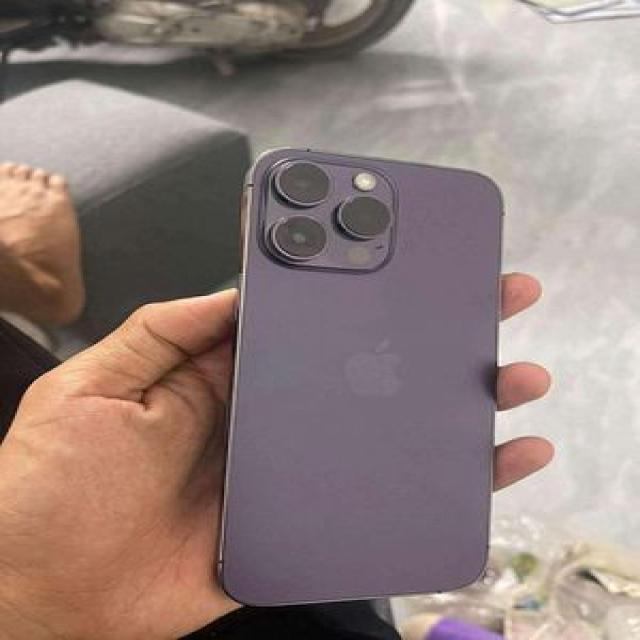gen_14: (213, 146, 513, 616)
